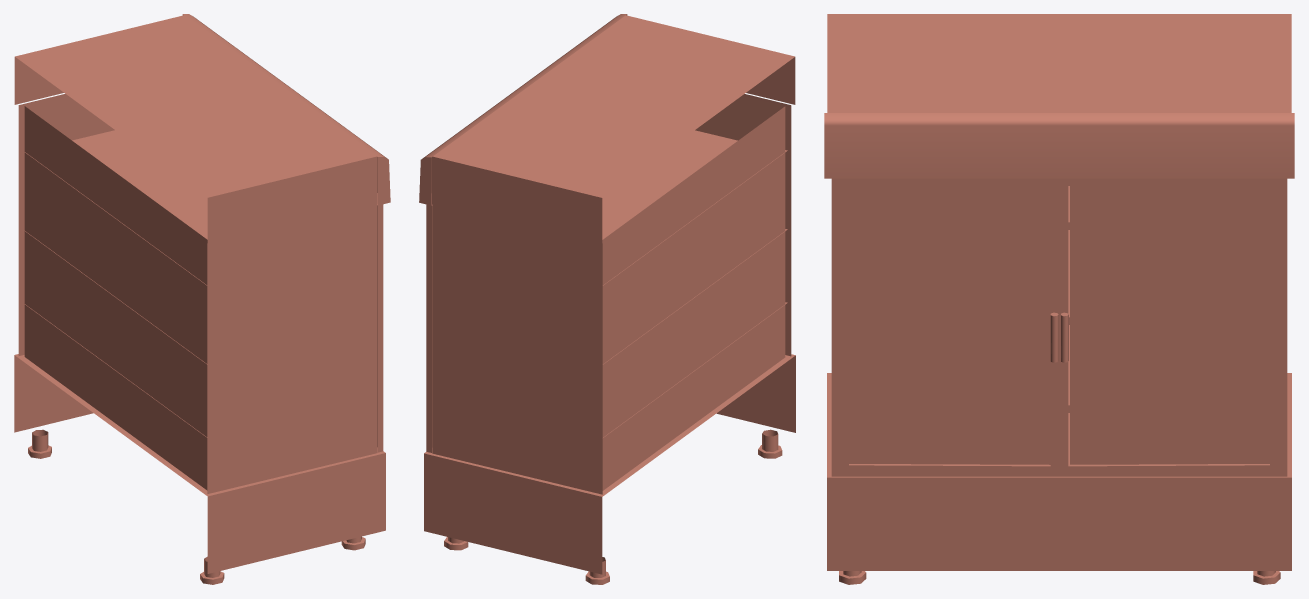
File: Napitok.fbx
The picture shows the model from 3 angles, left to right: view 1: azimuth 30°, elevation 25°; view 2: azimuth 150°, elevation 25°; view 3: azimuth 270°, elevation 25°; orthographic projection. The views are drawn at different scales.
Visible parts, largest first — view 1: pCube4, pCube4_Ext_2, pCube4_Ext_1, SmartCombine_8, pCube4_Ext_2_Dup_1, SmartCombine_9, SmartCombine_16; view 2: pCube4, pCube4_Ext_2, pCube4_Ext_1, SmartCombine_8, pCube4_Ext_2_Dup_1, SmartCombine_9, SmartCombine_16; view 3: Steklo, pCube4_Ext_2, pCube4_Ext_1, pCube4_Ext_2_Dup_1, SmartCombine_9, SmartCombine_16.
Part boxes in pixels (x1,y1,x2,y2): pCube4: (18,93,377,493); pCube4_Ext_2: (14,15,377,245); pCube4_Ext_1: (14,354,385,573); SmartCombine_8: (25,130,207,437); pCube4_Ext_2_Dup_1: (182,14,390,205); SmartCombine_9: (377,204,383,452); SmartCombine_16: (28,429,365,584); pCube4: (432,94,791,494); pCube4_Ext_2: (432,15,795,246); pCube4_Ext_1: (424,354,795,574); SmartCombine_8: (602,130,787,437); pCube4_Ext_2_Dup_1: (419,14,627,205); SmartCombine_9: (426,204,432,452); SmartCombine_16: (444,429,782,584); Steklo: (849,186,1269,464); pCube4_Ext_2: (827,14,1291,112); pCube4_Ext_1: (827,373,1291,570); pCube4_Ext_2_Dup_1: (824,113,1294,178); SmartCombine_9: (831,178,1287,476); SmartCombine_16: (839,571,1280,584).
Bounding box in the file's own units: 1 × 2 × 1.8.
